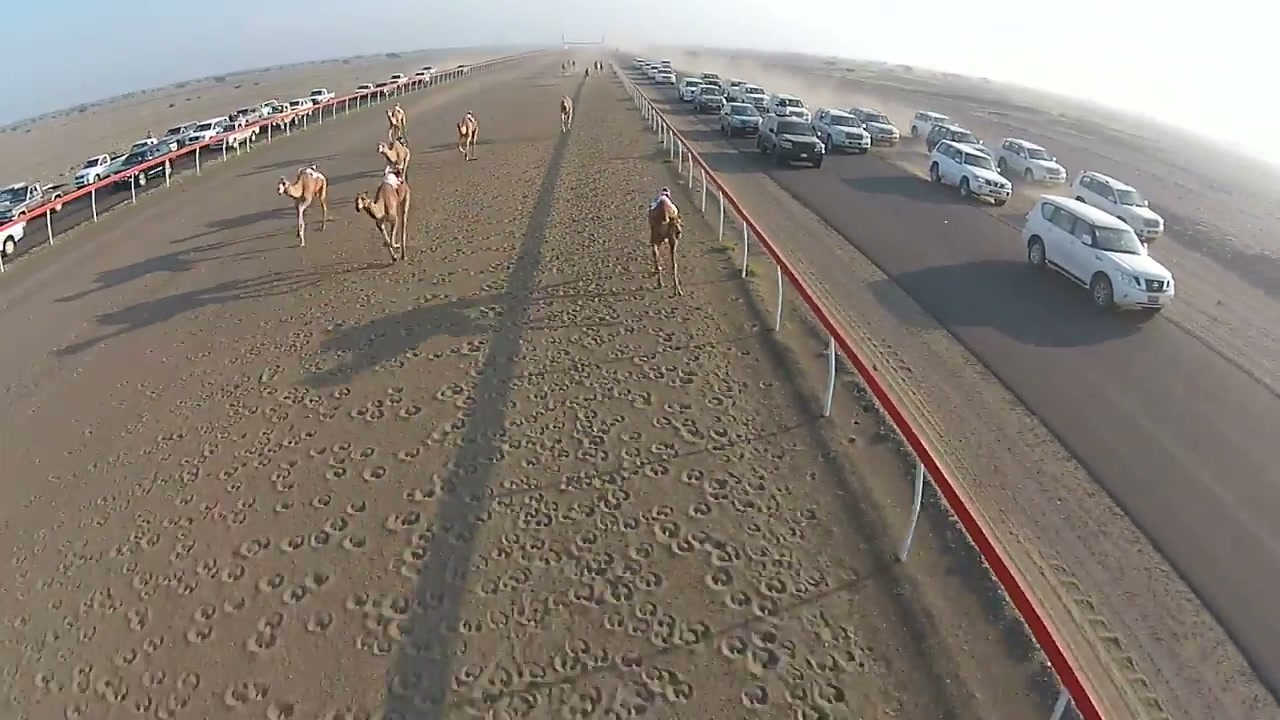animal_foot_print: (0, 84, 944, 719)
